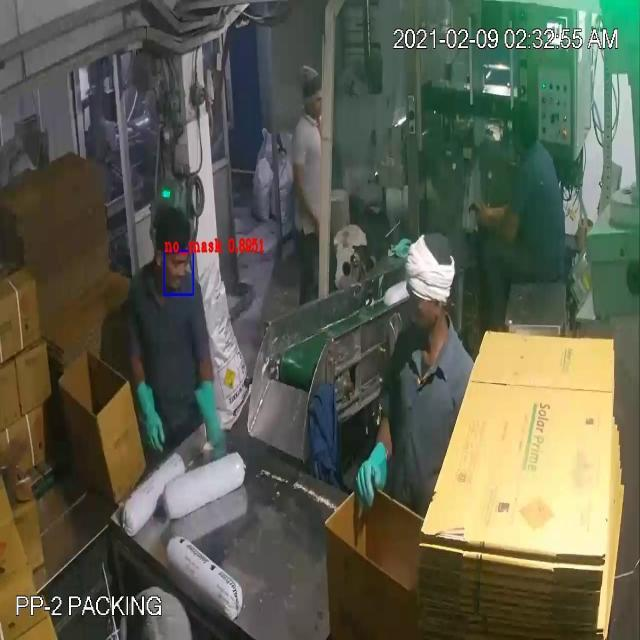Gloves: (38, 64, 495, 472)
